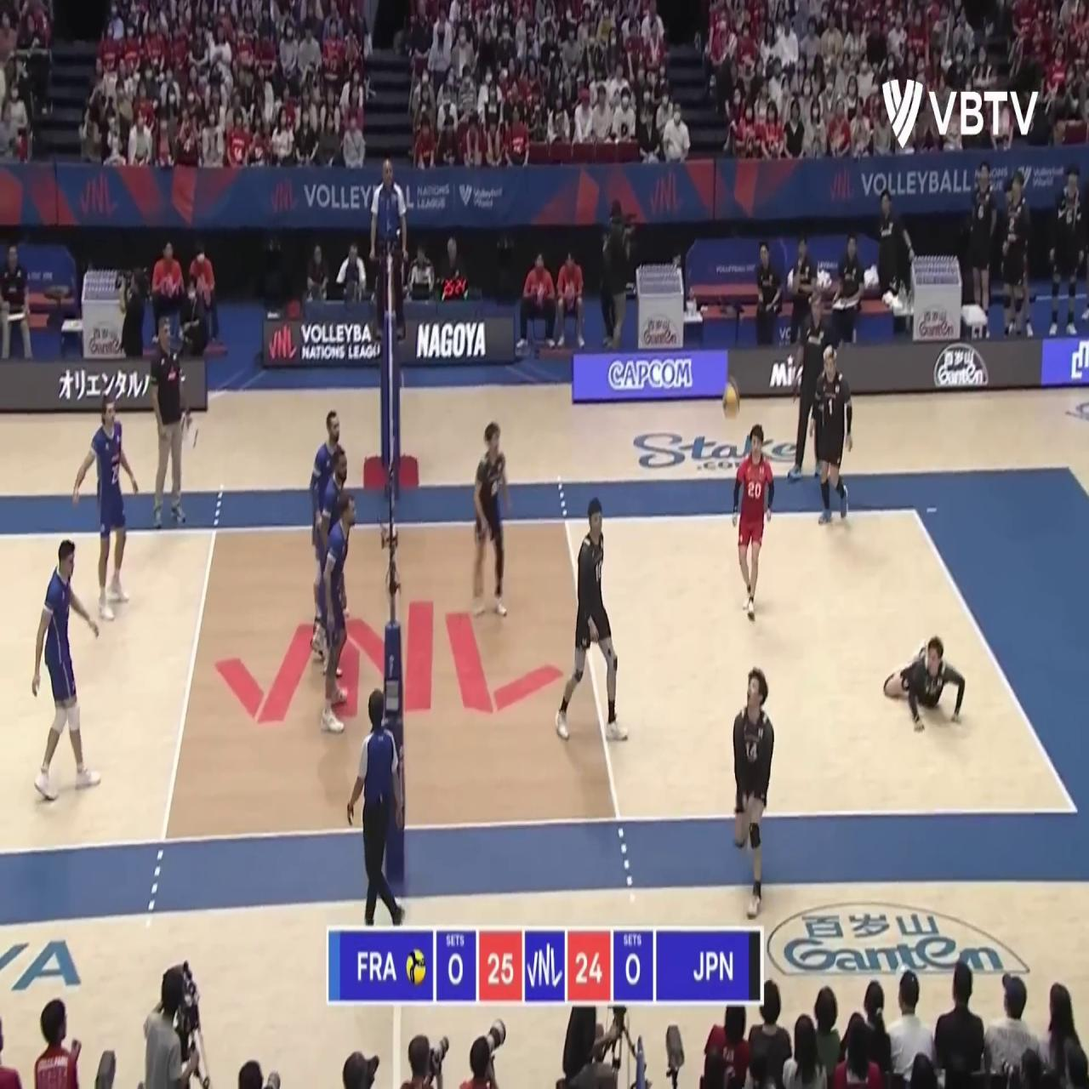ball: (722, 377, 741, 419)
